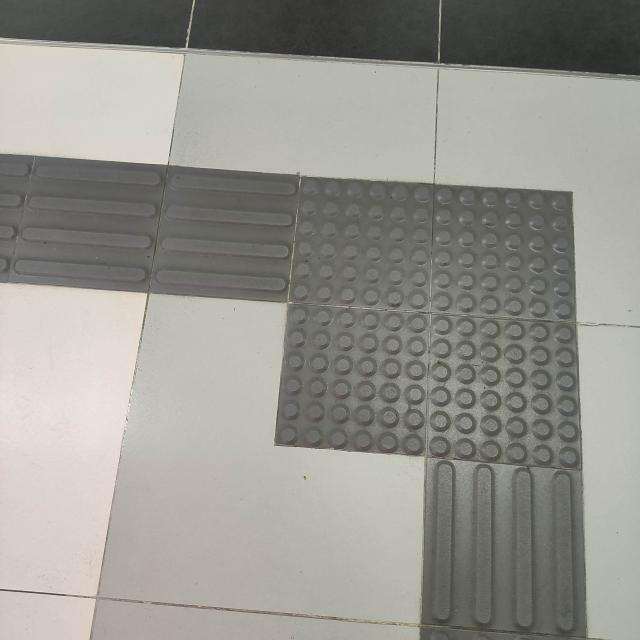kiri: (38, 127, 640, 510)
